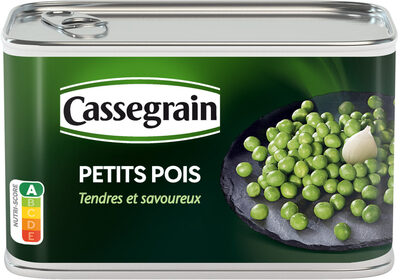Petits Pois 1/2: (20, 14, 380, 266)
